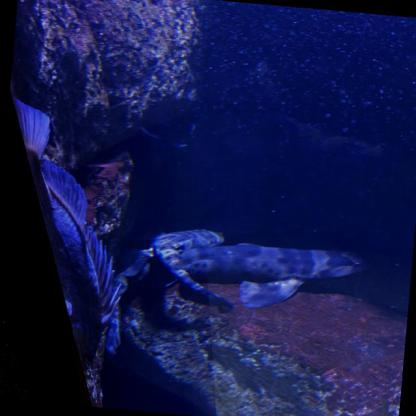fish: (0, 98, 136, 366)
shark: (148, 235, 371, 323), (103, 221, 225, 362)
